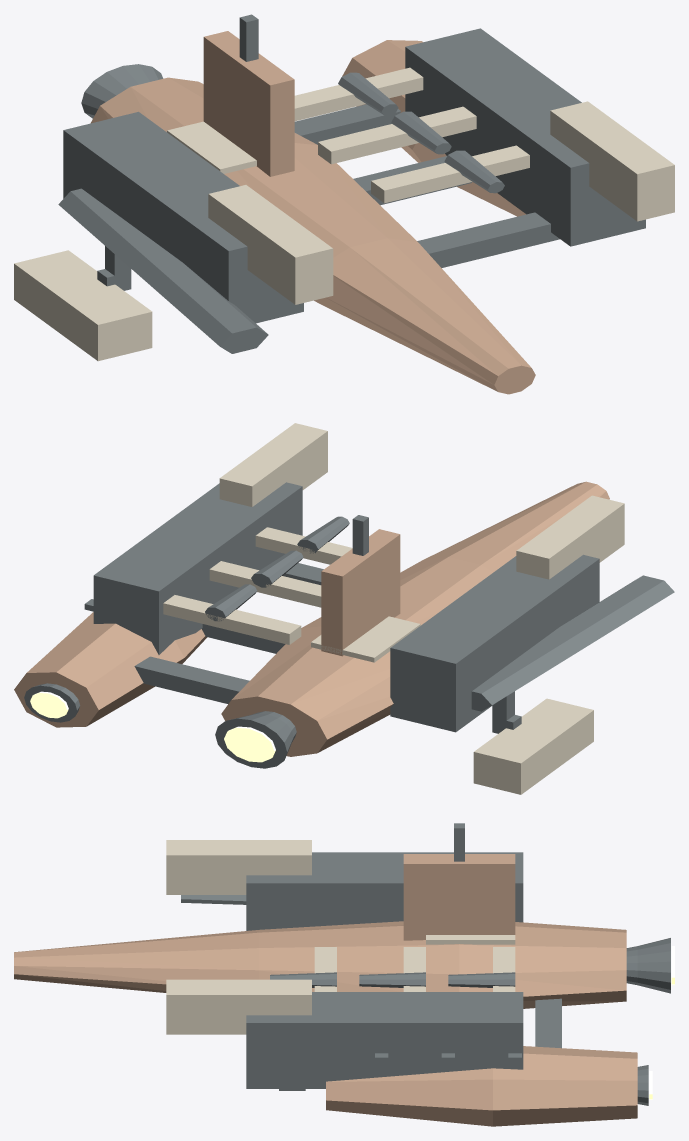
The picture shows the model from 3 angles, top to bottom: view 1: azimuth 30°, elevation 25°; view 2: azimuth 150°, elevation 25°; view 3: azimuth 270°, elevation 25°; orthographic projection. The views are drawn at different scales.
Bounding box in the file's own units: 13.66 × 6.31 × 18.13.
